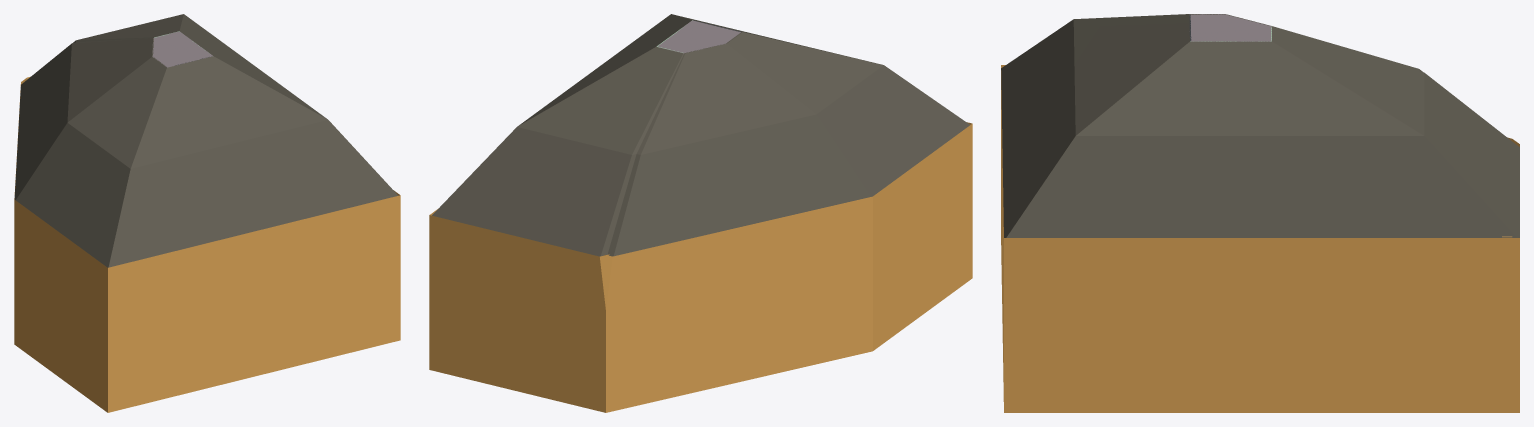
Rendered from _enkliSahne.fbx.
The picture shows the model from 3 angles, left to right: view 1: azimuth 30°, elevation 25°; view 2: azimuth 150°, elevation 25°; view 3: azimuth 270°, elevation 25°; orthographic projection. The views are drawn at different scales.
Visible parts, largest first — view 1: Cati, Studyo; view 2: Studyo, Cati; view 3: Cati, Studyo.
Boxes of the visible parts, bbox=[...] form: Cati: bbox=[14, 14, 398, 267]; Studyo: bbox=[14, 76, 400, 412]; Studyo: bbox=[429, 122, 972, 412]; Cati: bbox=[432, 14, 969, 256]; Cati: bbox=[1001, 14, 1519, 237]; Studyo: bbox=[1001, 65, 1519, 412].
Bounding box in the file's own units: 1885 × 1580 × 2390.
